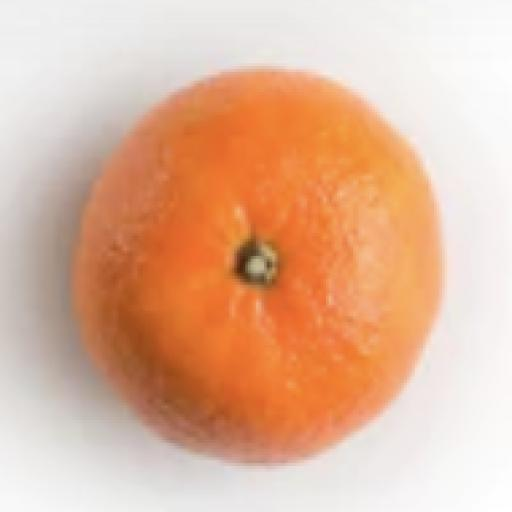orange: (76, 70, 441, 463)
